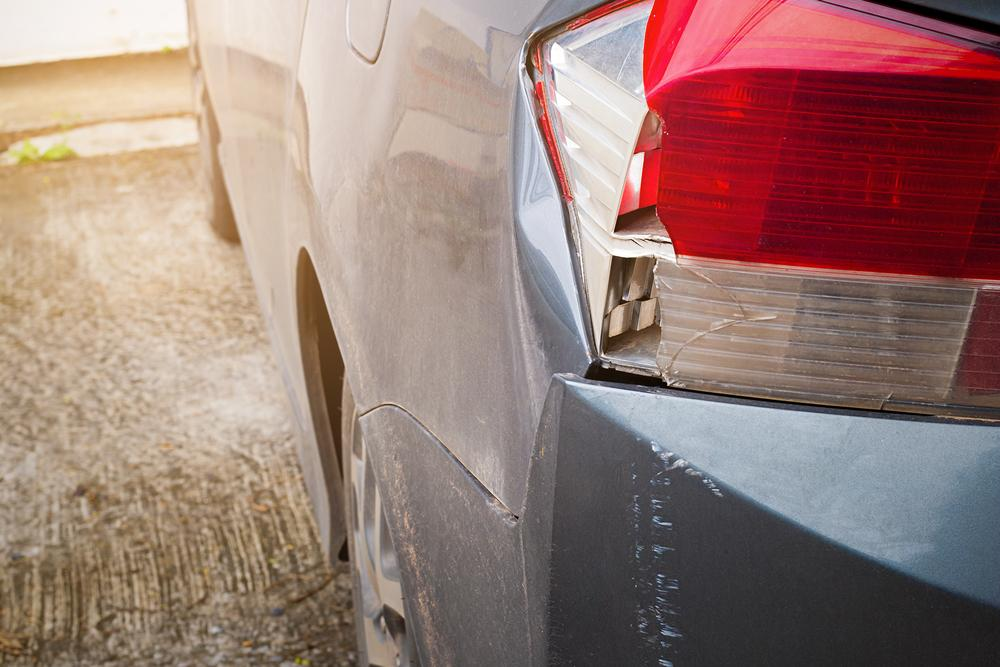lamp broken: (524, 0, 1000, 423)
scratch: (622, 437, 731, 667)
